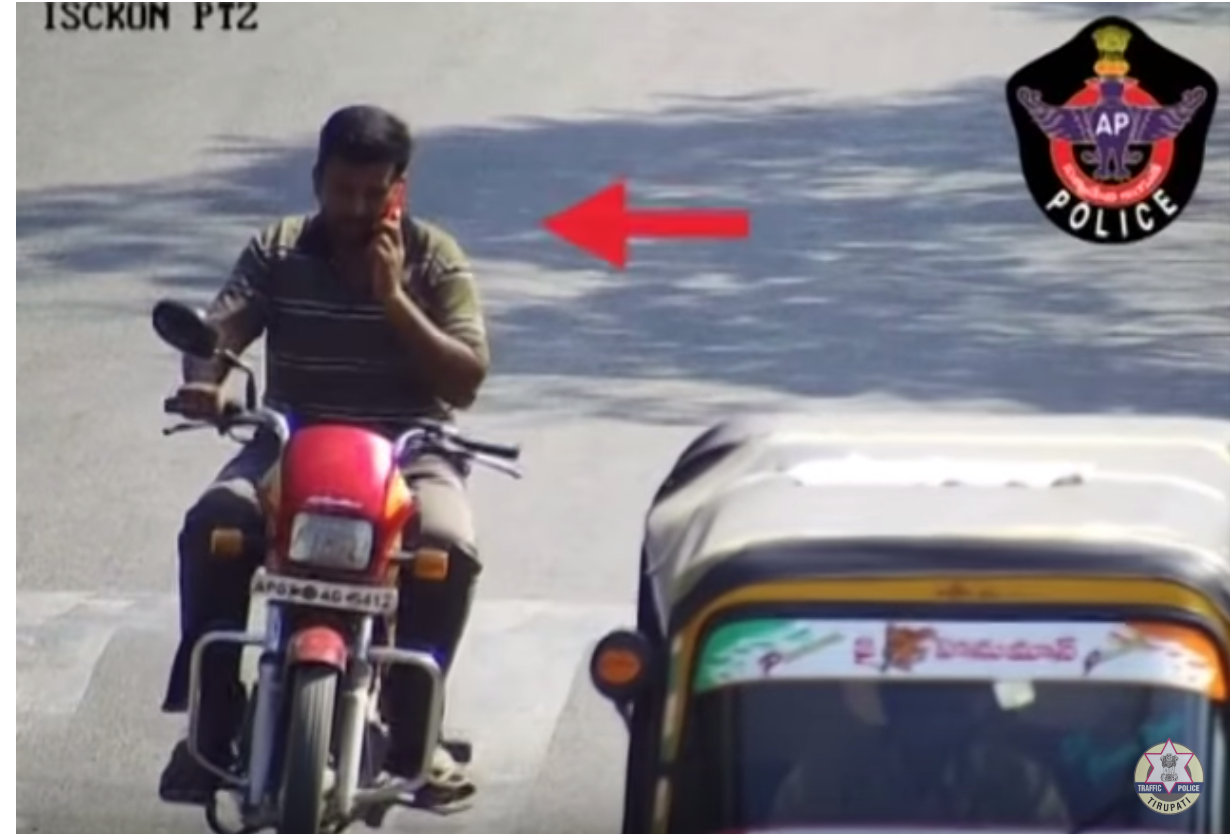h_bike: (151, 88, 511, 834)
h_nohelmet: (311, 88, 426, 264)
numplate: (245, 559, 405, 638)
